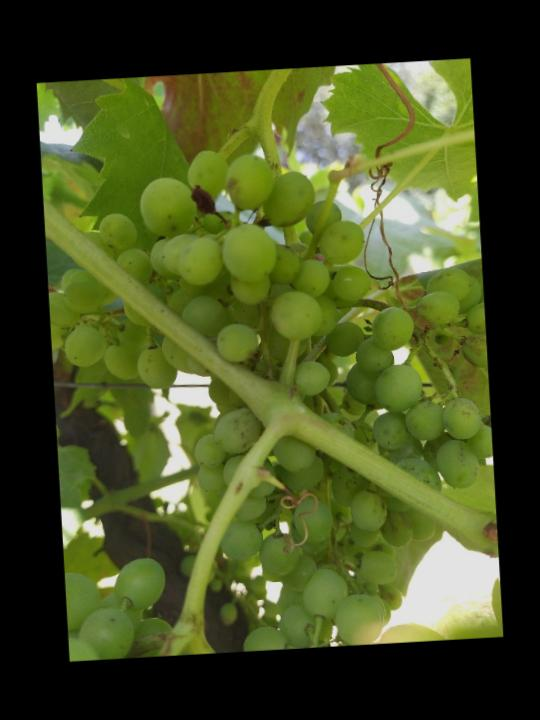grape: (57, 135, 493, 638)
